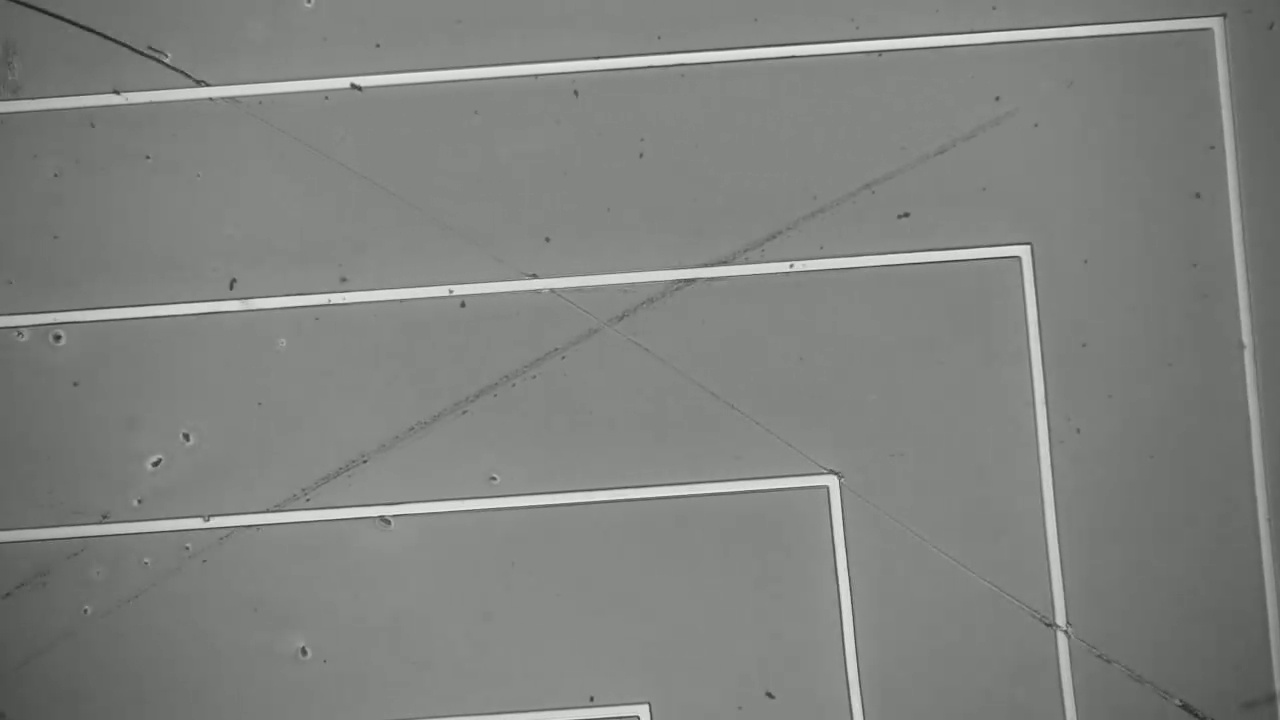edge_bite: (191, 509, 221, 535)
scratch: (17, 121, 1012, 667), (217, 99, 819, 468), (842, 474, 1213, 713), (8, 2, 196, 84)
stains_enbedded: (335, 68, 369, 100)
